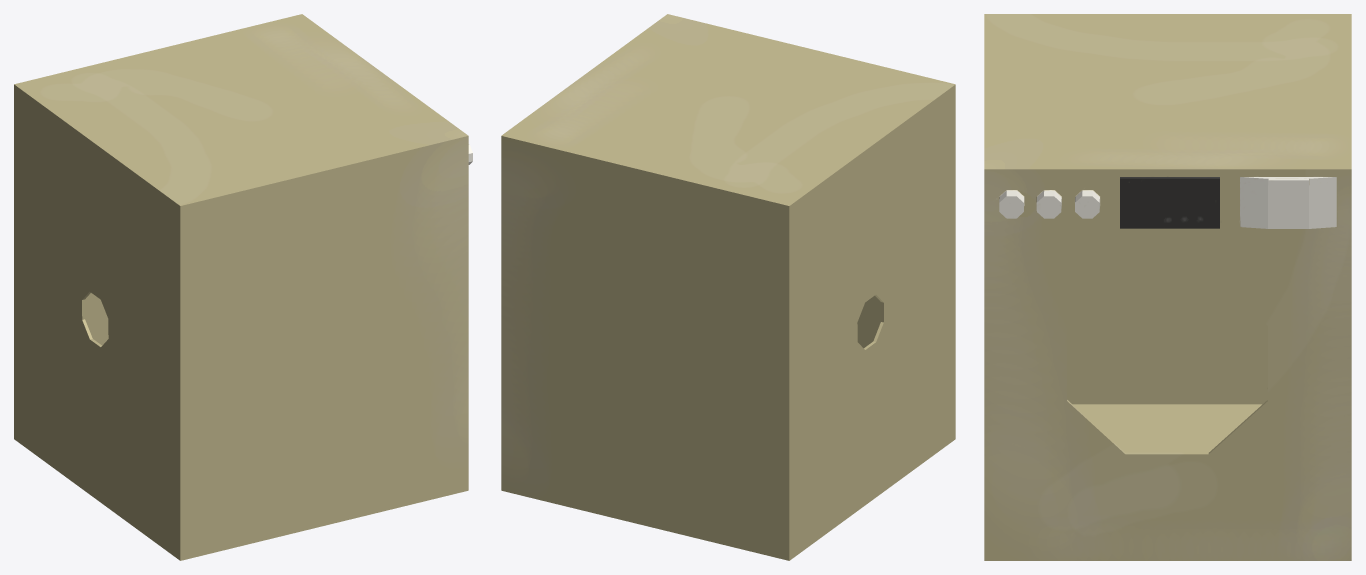
Rendered from MakineDış.fbx.
3 renders of one model, left to right at view 1: azimuth 30°, elevation 25°; view 2: azimuth 150°, elevation 25°; view 3: azimuth 270°, elevation 25°, orthographic. The views are drawn at different scales.
Parts seen in each view (by area): view 1: Cube; view 2: Cube; view 3: Cube.
Part boxes in pixels (x1,y1,x2,y2): Cube: (14, 14, 472, 560); Cube: (501, 14, 955, 560); Cube: (984, 14, 1351, 560).
Bounding box in the file's own units: 233 × 264 × 225.
1 material, 1 textured.
